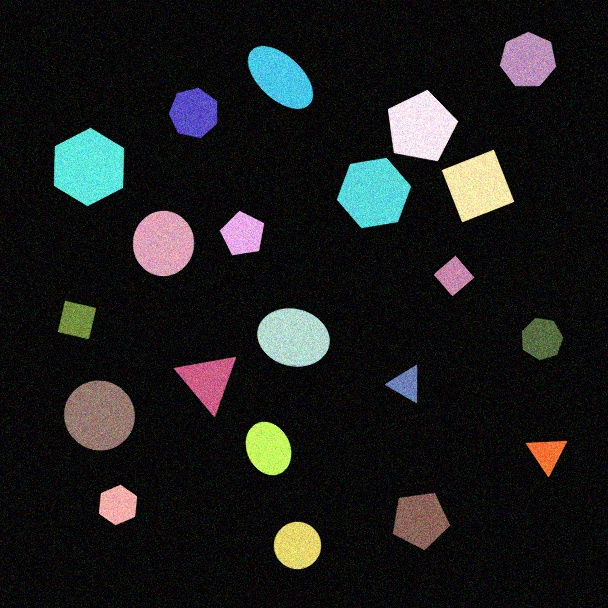Circulo: (63, 380, 136, 451), (132, 210, 195, 277), (273, 521, 322, 570)
Elipse: (256, 307, 331, 368), (247, 45, 314, 110), (245, 421, 292, 476)
Heptagono: (499, 31, 557, 87), (168, 87, 218, 139), (521, 317, 564, 361)
Hexagono: (53, 127, 125, 207), (336, 157, 412, 229), (98, 484, 138, 526)
Pentagono: (387, 89, 459, 162), (392, 492, 451, 551), (219, 210, 265, 256)
Quadrado: (441, 149, 515, 223), (433, 255, 475, 297), (57, 300, 97, 340)
Triangulo: (173, 356, 237, 418), (525, 440, 568, 478), (385, 364, 418, 404)
